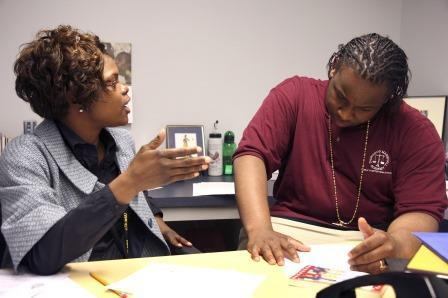Person: (241, 29, 434, 269), (3, 33, 201, 266)
